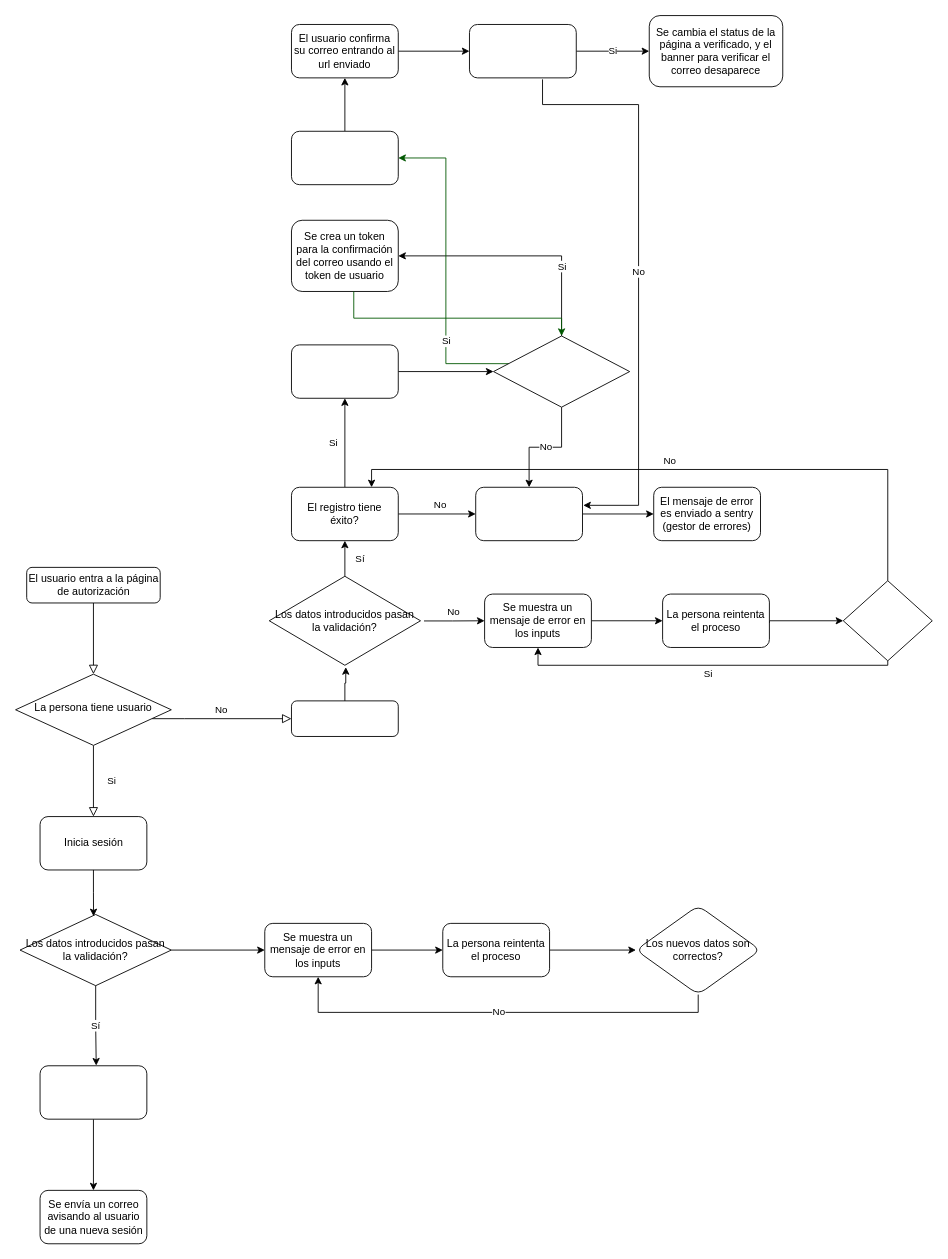
Image size: 948x1259. Some labels were removed from this diagram. Each missing label, with the centre of its shape:
"El token de la URL es correcto y se ha validado?" belongs at point (522, 51).
"El token tiene éxito creándose?" belongs at point (561, 371).
"La persona llena los datos de validación" belongs at point (344, 718).
"Los datos son incorrectos?" belongs at point (887, 620).
"Se crea un session token con expiración de 2 meses" belongs at point (344, 371).
"Se crea una session con expiración de 2 meses" belongs at point (93, 1092).
"Se envía el correo con la url y el token como param" belongs at point (344, 157).
"Se muestra un mensaje de error general" belongs at point (529, 513).
